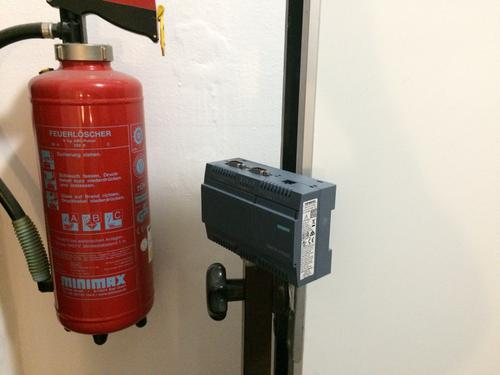iot2000: (200, 158, 338, 290)
